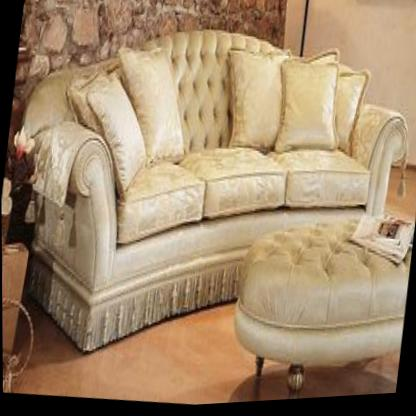Sofa: (1, 0, 416, 397)
